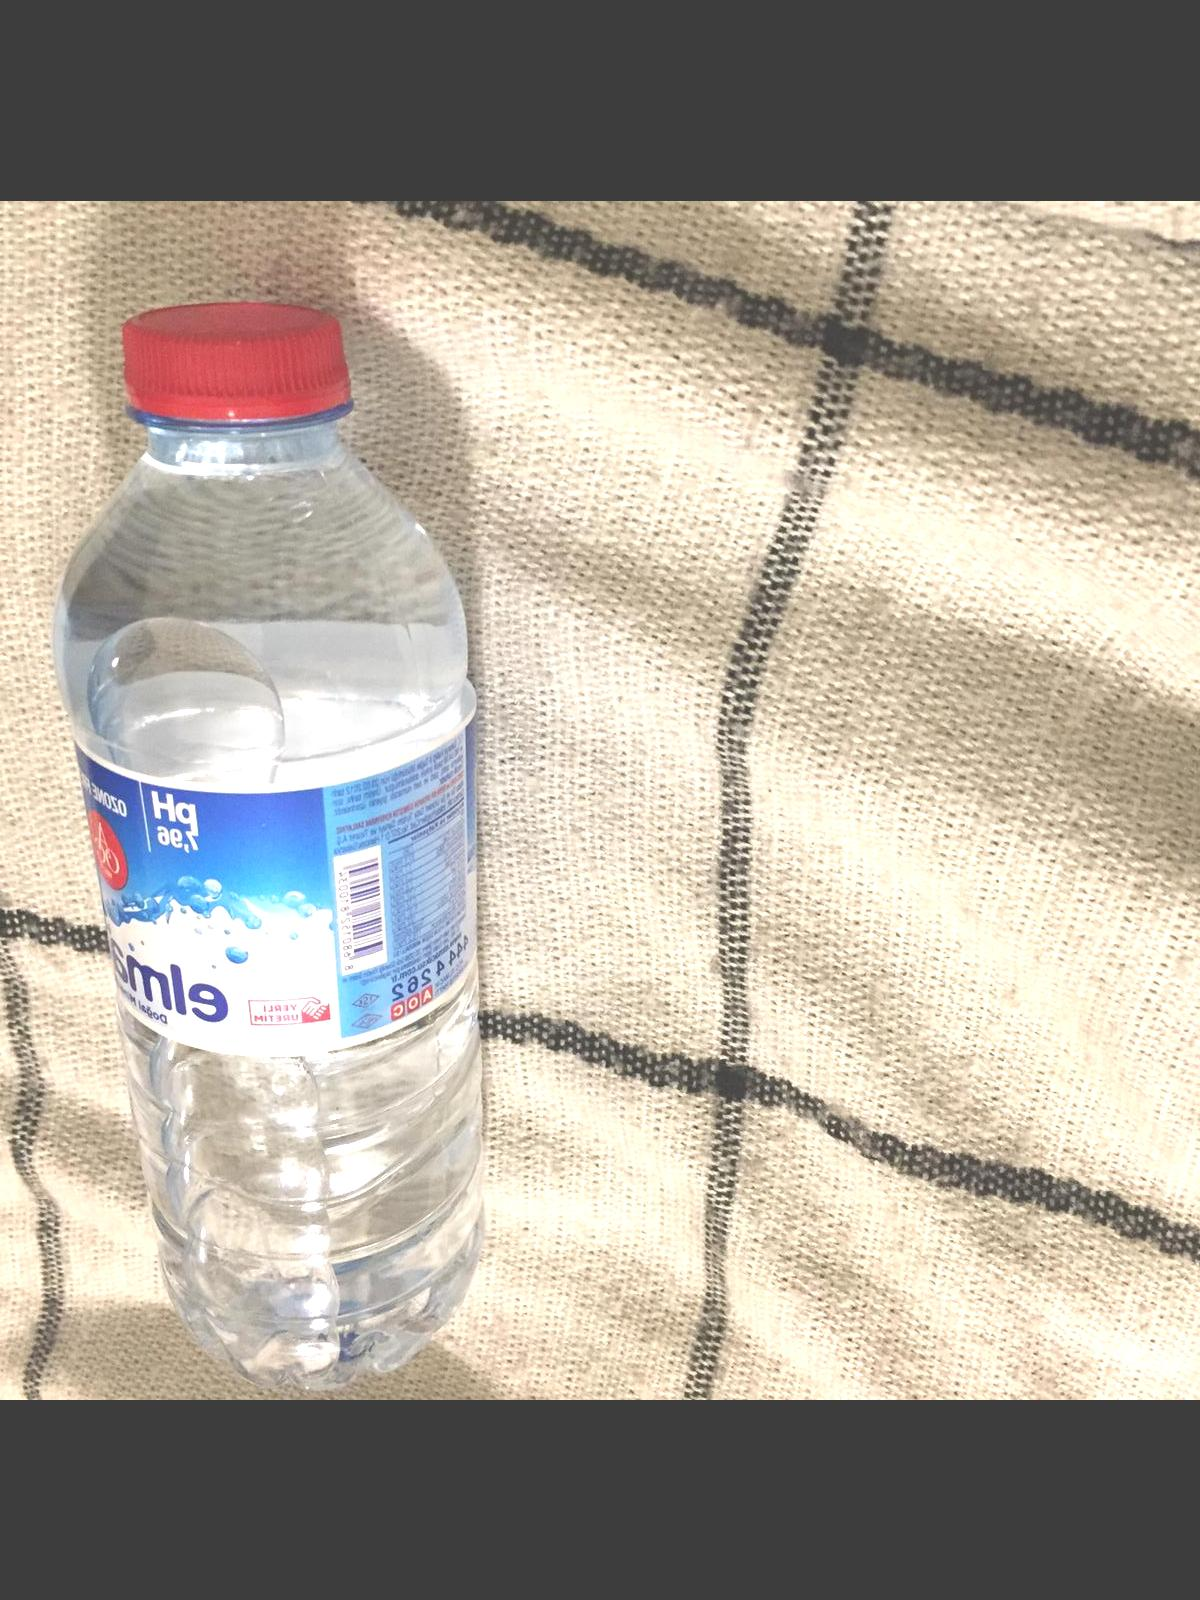bottle: (50, 291, 487, 1386)
